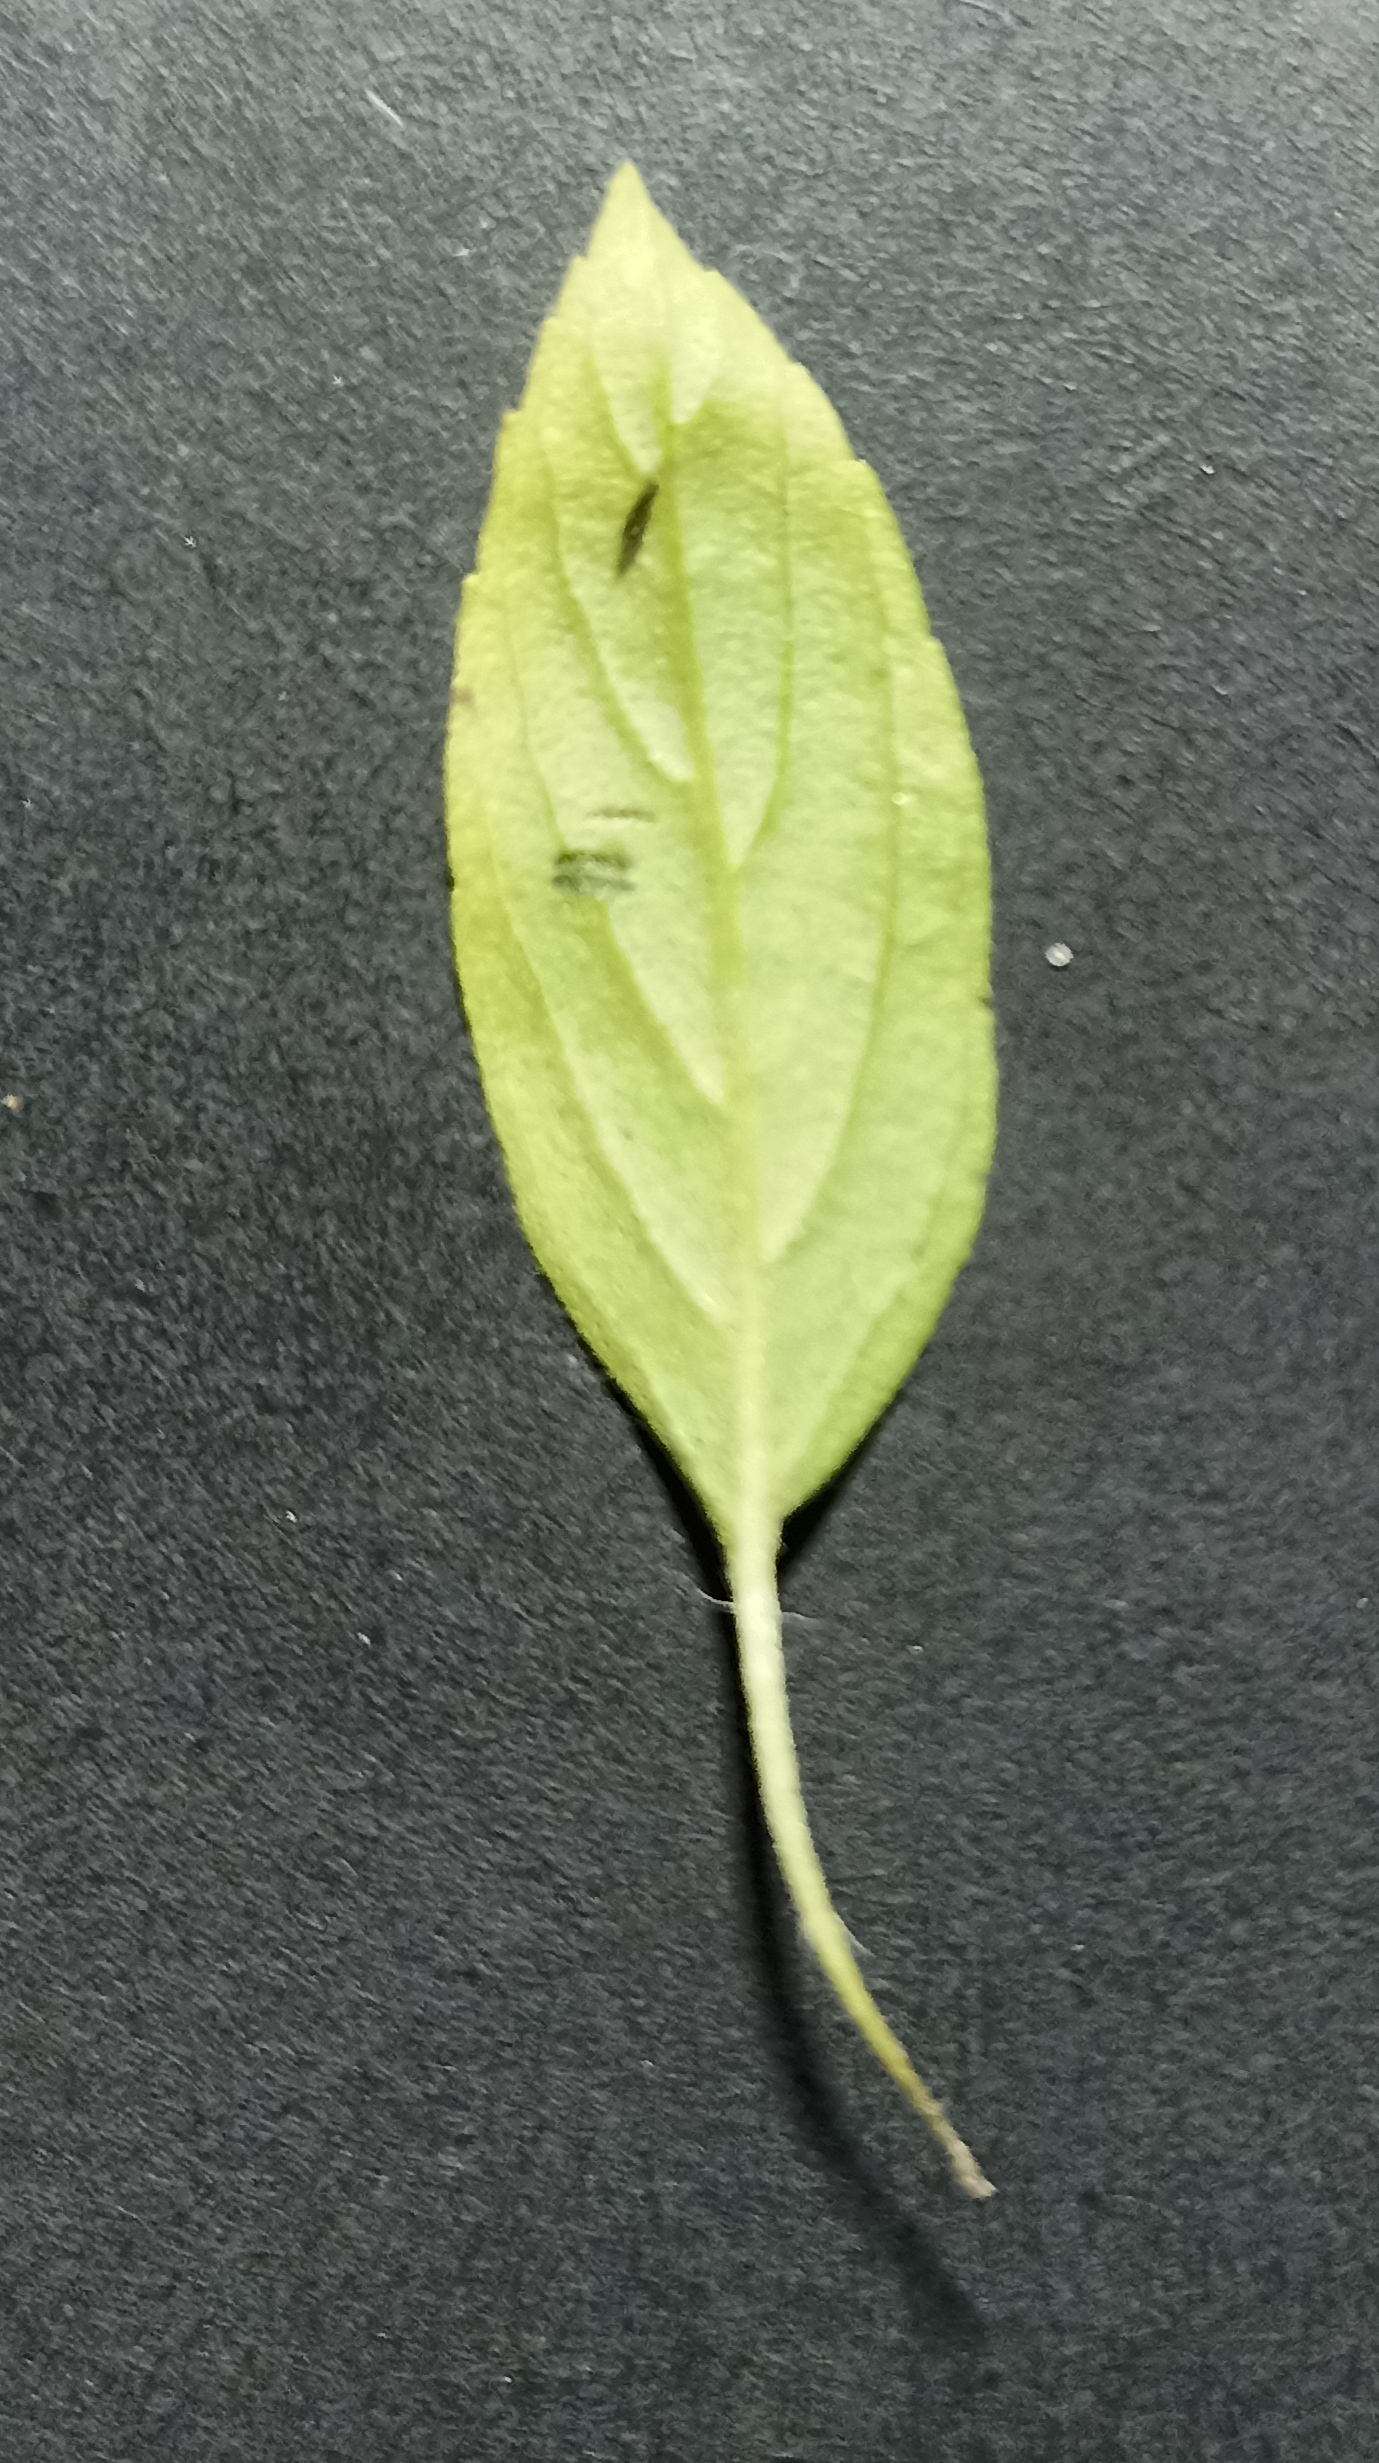Unhealthy: (438, 134, 1014, 1588)
